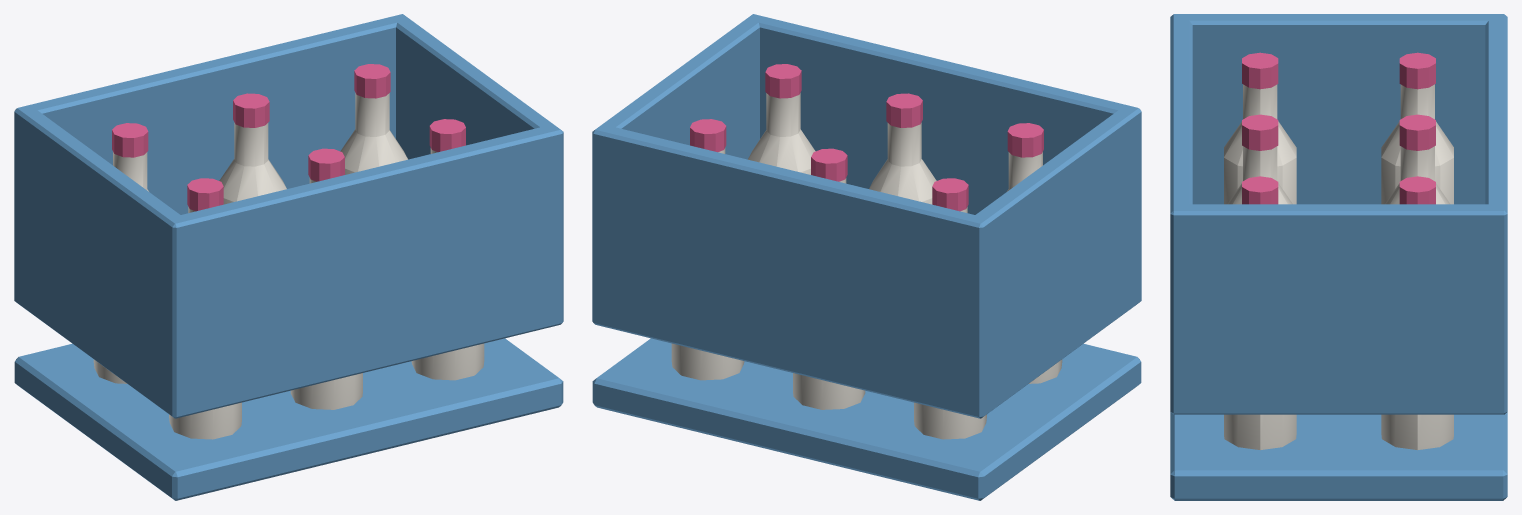
Rendered from live-music-venue-and-festival-stage-water-bottle-crate-0c59da5b.glb.
The picture shows the model from 3 angles, left to right: view 1: azimuth 30°, elevation 25°; view 2: azimuth 150°, elevation 25°; view 3: azimuth 270°, elevation 25°; orthographic projection. The views are drawn at different scales.
Parts seen in each view (by area): view 1: water-bottle-crate; view 2: water-bottle-crate; view 3: water-bottle-crate.
Part boxes in pixels (x1,y1,x2,y2): water-bottle-crate: (14, 14, 563, 500); water-bottle-crate: (592, 14, 1141, 500); water-bottle-crate: (1170, 14, 1507, 500).
Size of the model in its own units: 0.42 by 0.285 by 0.3.
